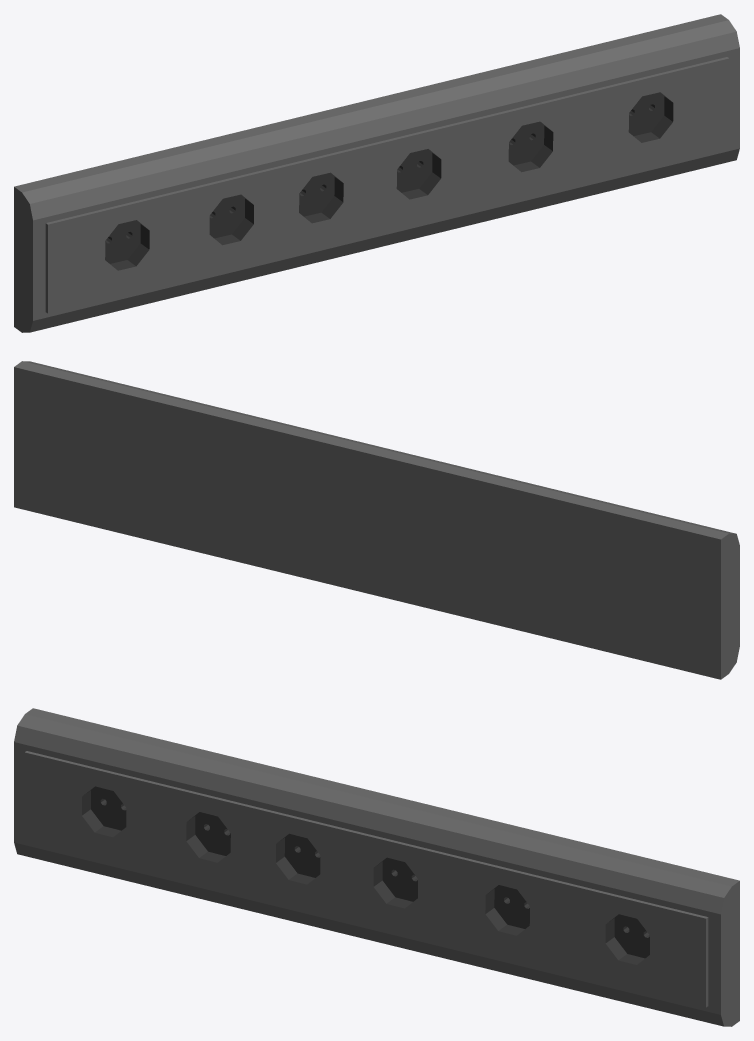
The model's file is H_Power_Socket.fbx.
3 renders of one model, top to bottom at view 1: azimuth 30°, elevation 25°; view 2: azimuth 150°, elevation 25°; view 3: azimuth 330°, elevation 25°, orthographic.
Parts seen in each view (by area): view 1: H_Power_Socket; view 2: H_Power_Socket; view 3: H_Power_Socket.
Part boxes in pixels (x1=…): H_Power_Socket: x1=14, y1=14, x2=739, y2=332; H_Power_Socket: x1=14, y1=361, x2=739, y2=679; H_Power_Socket: x1=14, y1=708, x2=739, y2=1026.
Bounding box in the file's own units: 736 × 38.1 × 139.
